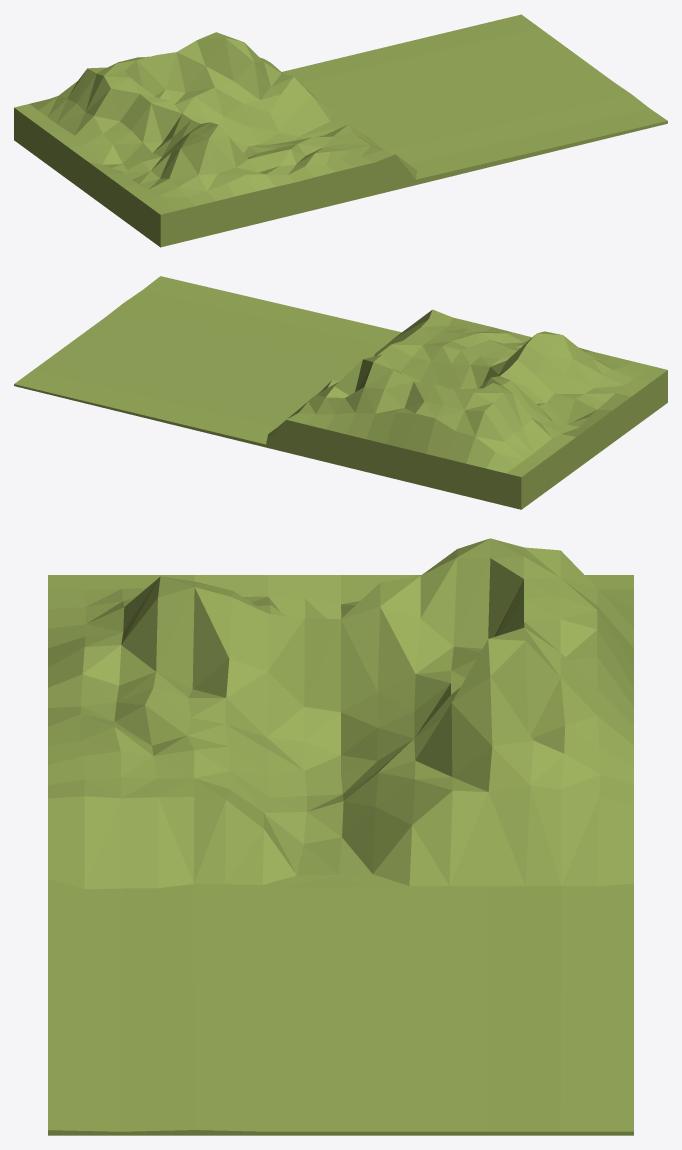
File: castleGrounds.glb
3 views of the same model, one above another, from view 1: azimuth 30°, elevation 25°; view 2: azimuth 150°, elevation 25°; view 3: azimuth 270°, elevation 25° (orthographic). The views are drawn at different scales.
Visible parts, largest first — view 1: terrain; view 2: terrain; view 3: terrain.
Part boxes in pixels (bbox=[...]): terrain: bbox=[14, 14, 667, 247]; terrain: bbox=[14, 276, 667, 509]; terrain: bbox=[48, 538, 633, 1135].
Size of what is drawn, in the model's own units: 64 by 10.39 by 32.
